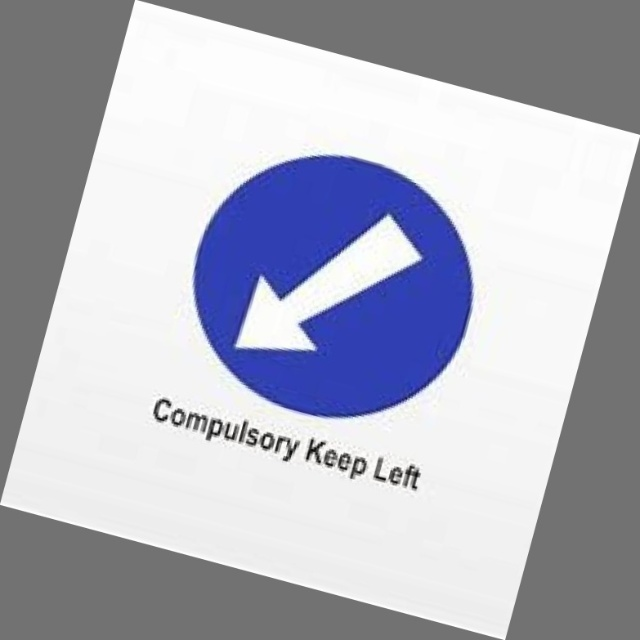R.301e: (160, 119, 504, 453)
